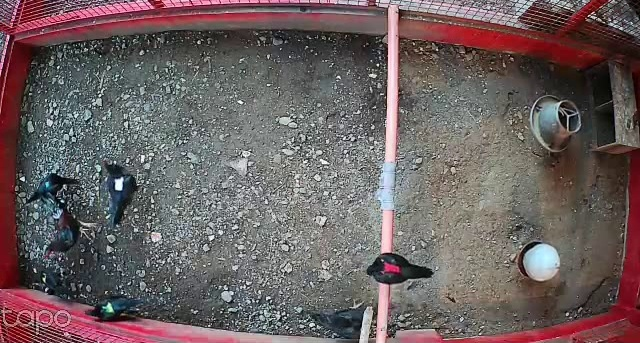Chicken: (101, 157, 146, 230), (362, 246, 439, 288), (307, 296, 373, 337), (22, 169, 84, 207), (84, 293, 146, 322)
Rooster: (43, 186, 95, 260)
Saddle_Color_Blue: (45, 180, 50, 187)
Saddle_Color_Red: (383, 261, 399, 273)
Saddle_Color_White: (112, 176, 125, 192)
Saddle_Color_YellowGreen: (103, 301, 115, 313)
